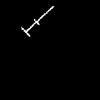double_crochet: (22, 7, 52, 35)
